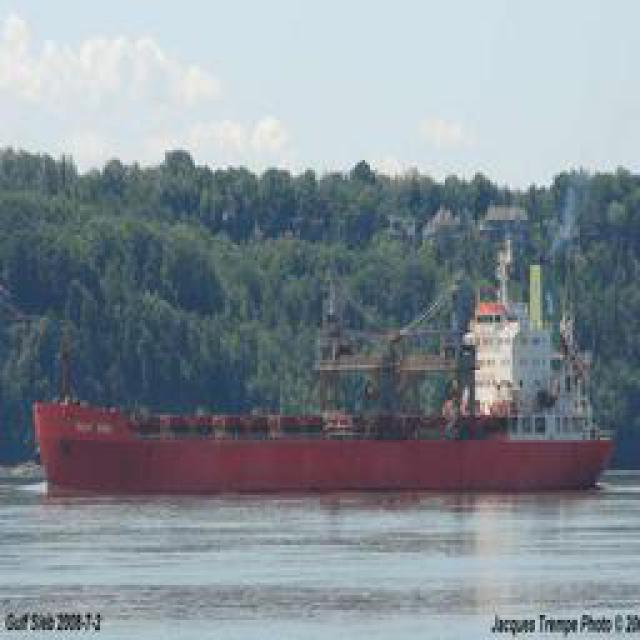Ship: (48, 406, 606, 496)
